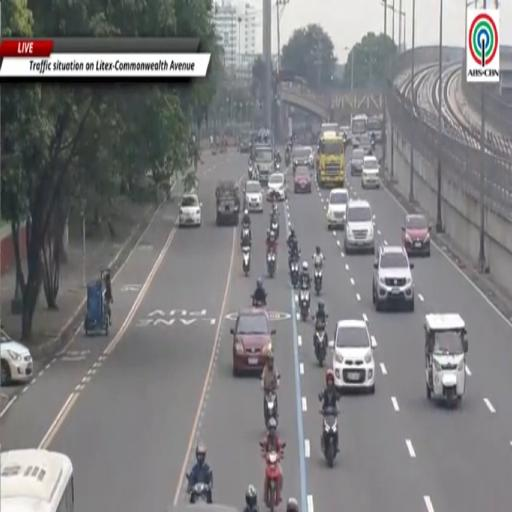bus: (0, 450, 74, 511), (351, 115, 367, 147), (367, 117, 383, 142), (351, 115, 368, 136), (321, 123, 338, 135)
car: (330, 319, 375, 393), (230, 308, 275, 376), (373, 246, 414, 311), (0, 329, 33, 385), (344, 200, 375, 254), (402, 214, 431, 257), (327, 188, 348, 230), (179, 194, 201, 227), (361, 156, 380, 188), (245, 180, 263, 212), (267, 172, 287, 200), (292, 147, 314, 168), (294, 168, 311, 193), (351, 149, 365, 175), (359, 134, 372, 154), (239, 134, 251, 153)
motorcycle: (264, 451, 282, 511), (321, 408, 338, 467), (314, 327, 327, 366), (264, 392, 278, 427), (190, 483, 211, 504), (300, 290, 309, 321), (290, 261, 299, 289), (267, 251, 276, 278), (242, 246, 250, 276), (314, 267, 322, 295), (270, 216, 279, 238), (251, 295, 266, 308), (241, 223, 250, 239), (248, 165, 254, 180), (285, 153, 290, 167), (275, 163, 280, 171)
tricycle: (84, 270, 109, 335)
truck: (317, 133, 345, 187), (216, 181, 240, 226), (254, 144, 274, 185), (321, 123, 339, 135)
